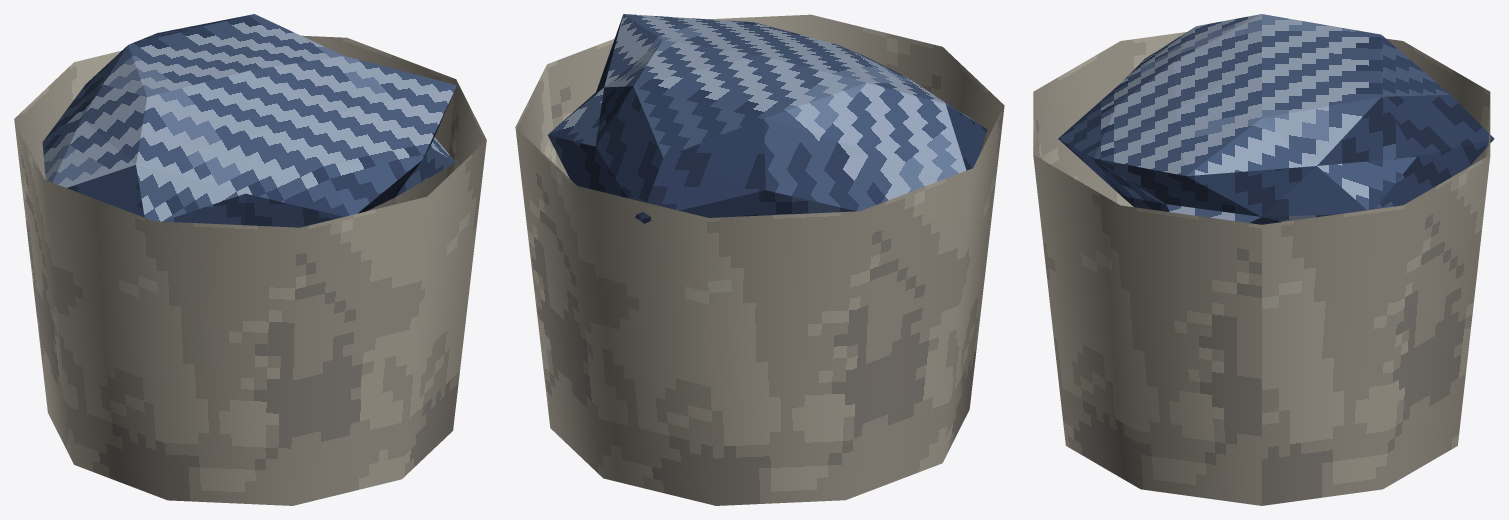
File: RES_LaundryBasket.obj
The picture shows the model from 3 angles, left to right: view 1: azimuth 30°, elevation 25°; view 2: azimuth 150°, elevation 25°; view 3: azimuth 270°, elevation 25°; orthographic projection. The views are drawn at different scales.
Visible parts, largest first — view 1: RES_LaundryBasket_Mesh_M_Furn_PlasticDirty, RES_LaundryBasket_Mesh_M_Furn_Denim; view 2: RES_LaundryBasket_Mesh_M_Furn_PlasticDirty, RES_LaundryBasket_Mesh_M_Furn_Denim; view 3: RES_LaundryBasket_Mesh_M_Furn_PlasticDirty, RES_LaundryBasket_Mesh_M_Furn_Denim.
Part boxes in pixels (x1=…): RES_LaundryBasket_Mesh_M_Furn_PlasticDirty: x1=14, y1=35, x2=486, y2=505; RES_LaundryBasket_Mesh_M_Furn_Denim: x1=42, y1=14, x2=456, y2=227; RES_LaundryBasket_Mesh_M_Furn_PlasticDirty: x1=515, y1=14, x2=1004, y2=505; RES_LaundryBasket_Mesh_M_Furn_Denim: x1=548, y1=14, x2=987, y2=223; RES_LaundryBasket_Mesh_M_Furn_PlasticDirty: x1=1033, y1=32, x2=1490, y2=505; RES_LaundryBasket_Mesh_M_Furn_Denim: x1=1058, y1=14, x2=1494, y2=224.
Size of the model in its own units: 0.56 by 0.4569 by 0.5376.
2 materials, 2 textured.
